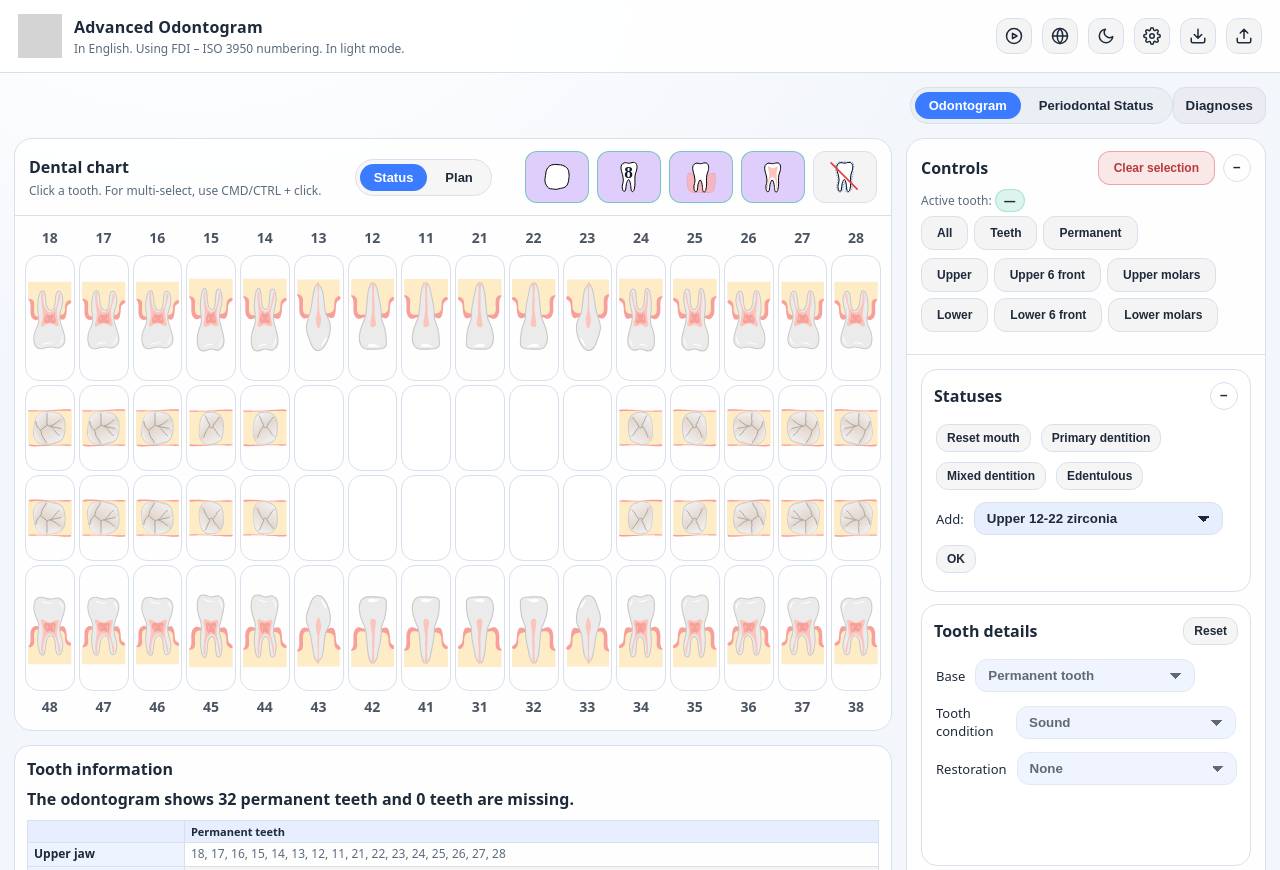
Test case: Popups interaction characterization › B. Context Menu multi-selection › context menu offers multi-select item when other teeth are already selected
Press the mouse on the option named "11" at [426, 318], box [401, 255, 451, 381]
Wait 550 ms
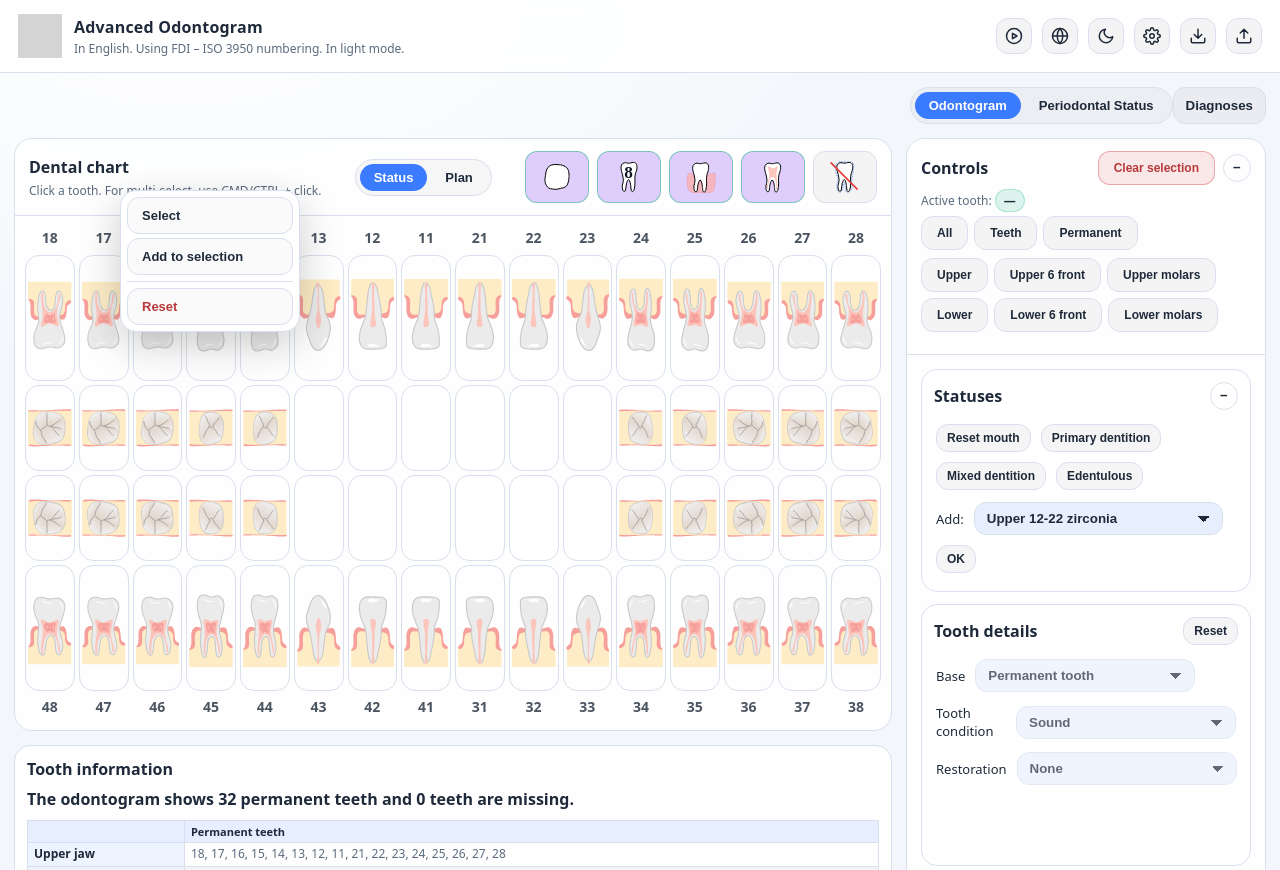
expect the element with class "odon-ctx-menu" is shown: met, box [120, 190, 300, 332]
expect the button with class "odon-ctx-item" showing "Add to selection" is shown: met
Click the button with class "odon-ctx-item" showing "Add to selection".
click(210, 256)  # box [127, 238, 293, 275]
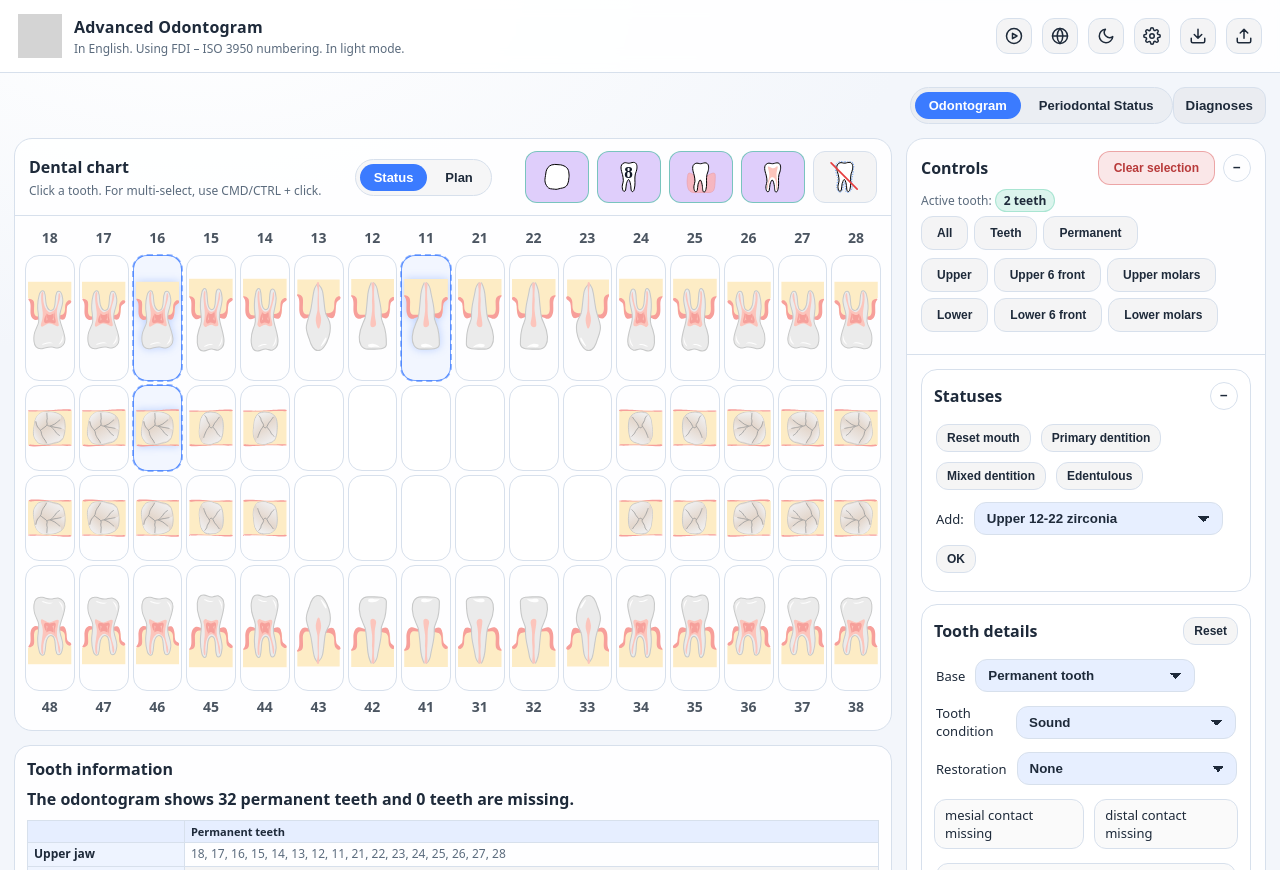
expect the element with class "odon-ctx-menu" is gone: met
